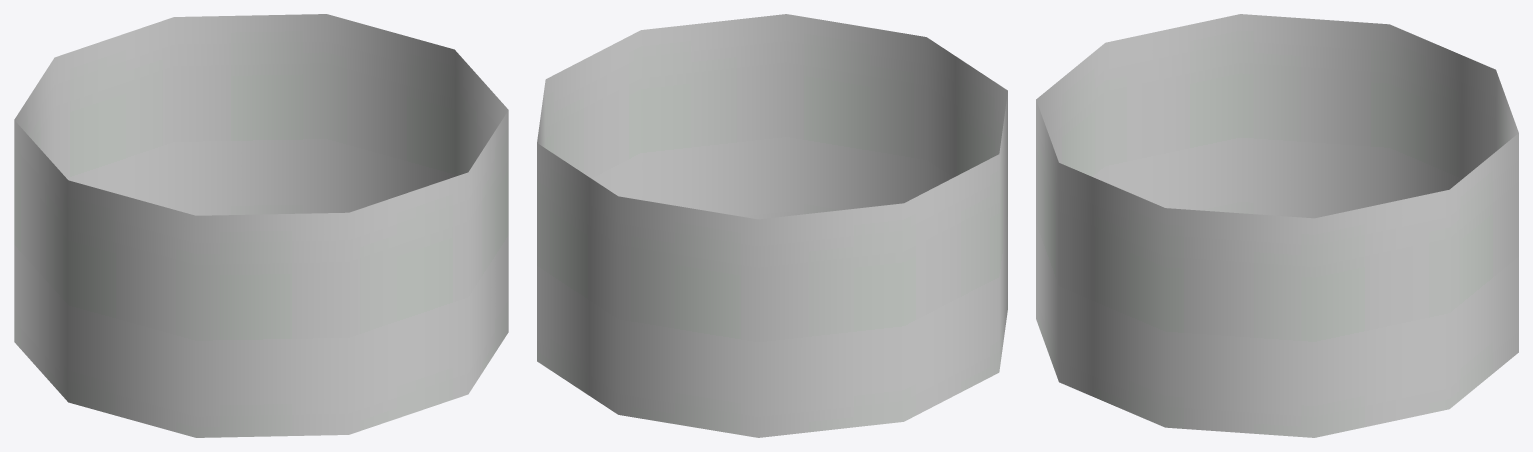
File: ARENA_ALPHA.glb
3 views of the same model, side by side, from view 1: azimuth 30°, elevation 25°; view 2: azimuth 150°, elevation 25°; view 3: azimuth 270°, elevation 25° (orthographic).
Parts seen in each view (by area): view 1: Mesh; view 2: Mesh; view 3: Mesh.
Part boxes in pixels (x1,y1,x2,y2): Mesh: [14, 14, 508, 437]; Mesh: [537, 14, 1007, 437]; Mesh: [1036, 14, 1518, 437].
Bounding box in the file's own units: 13.5 × 6.77 × 13.48.
1 material, 1 textured.
